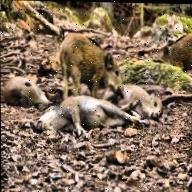boar: (18, 93, 130, 141), (47, 38, 129, 103), (112, 83, 164, 121)
